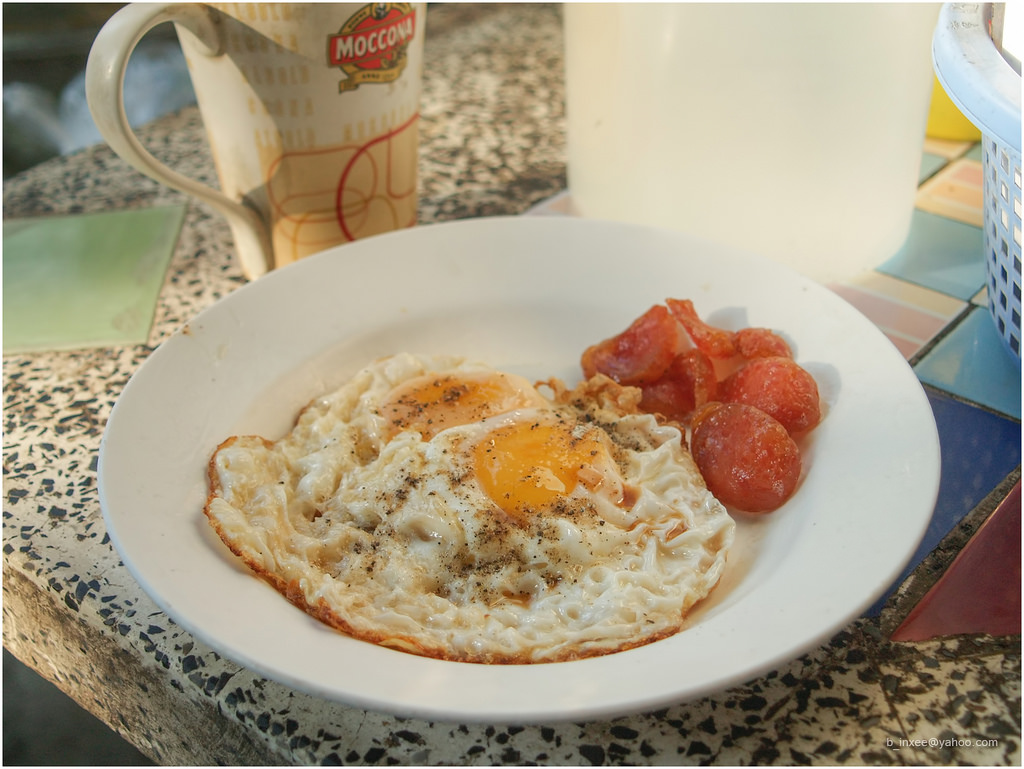fried egg: (227, 368, 714, 635)
